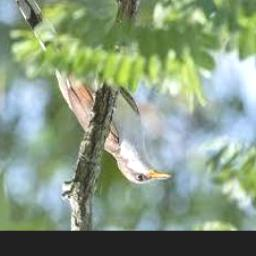Cuckoo: (14, 0, 172, 184)
